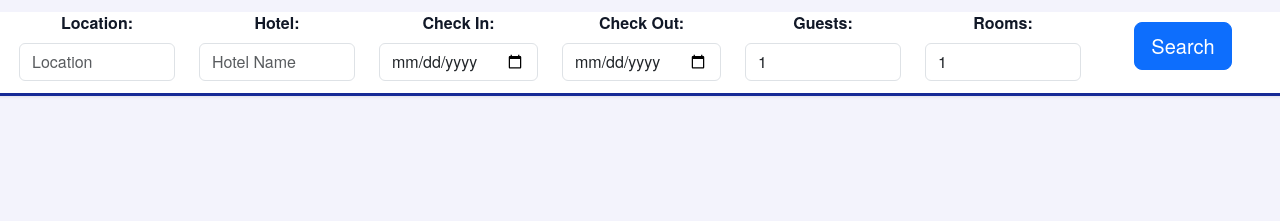
1) SearchBar Autocomplete › search-page mode: same debounce + suggestions
In the field with placeholder "Location": (97, 62) [19,43,175,81], type "Ro"
Wait 300 ms
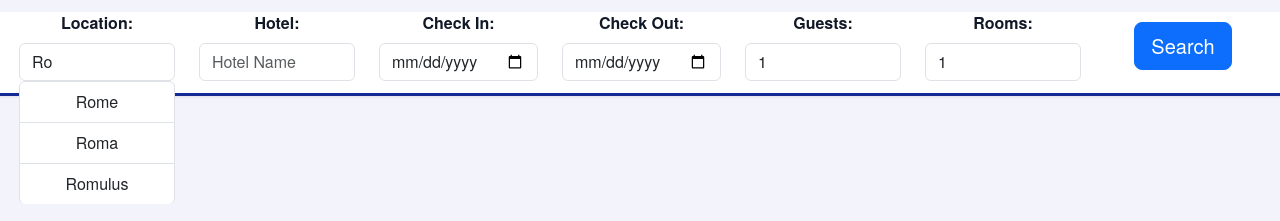
Check: the text "Rome" is shown, box [19,81,175,123]
Check: the text "Roma" is shown, box [19,123,175,164]
Check: the text "Romulus" is shown, box [19,164,175,204]
